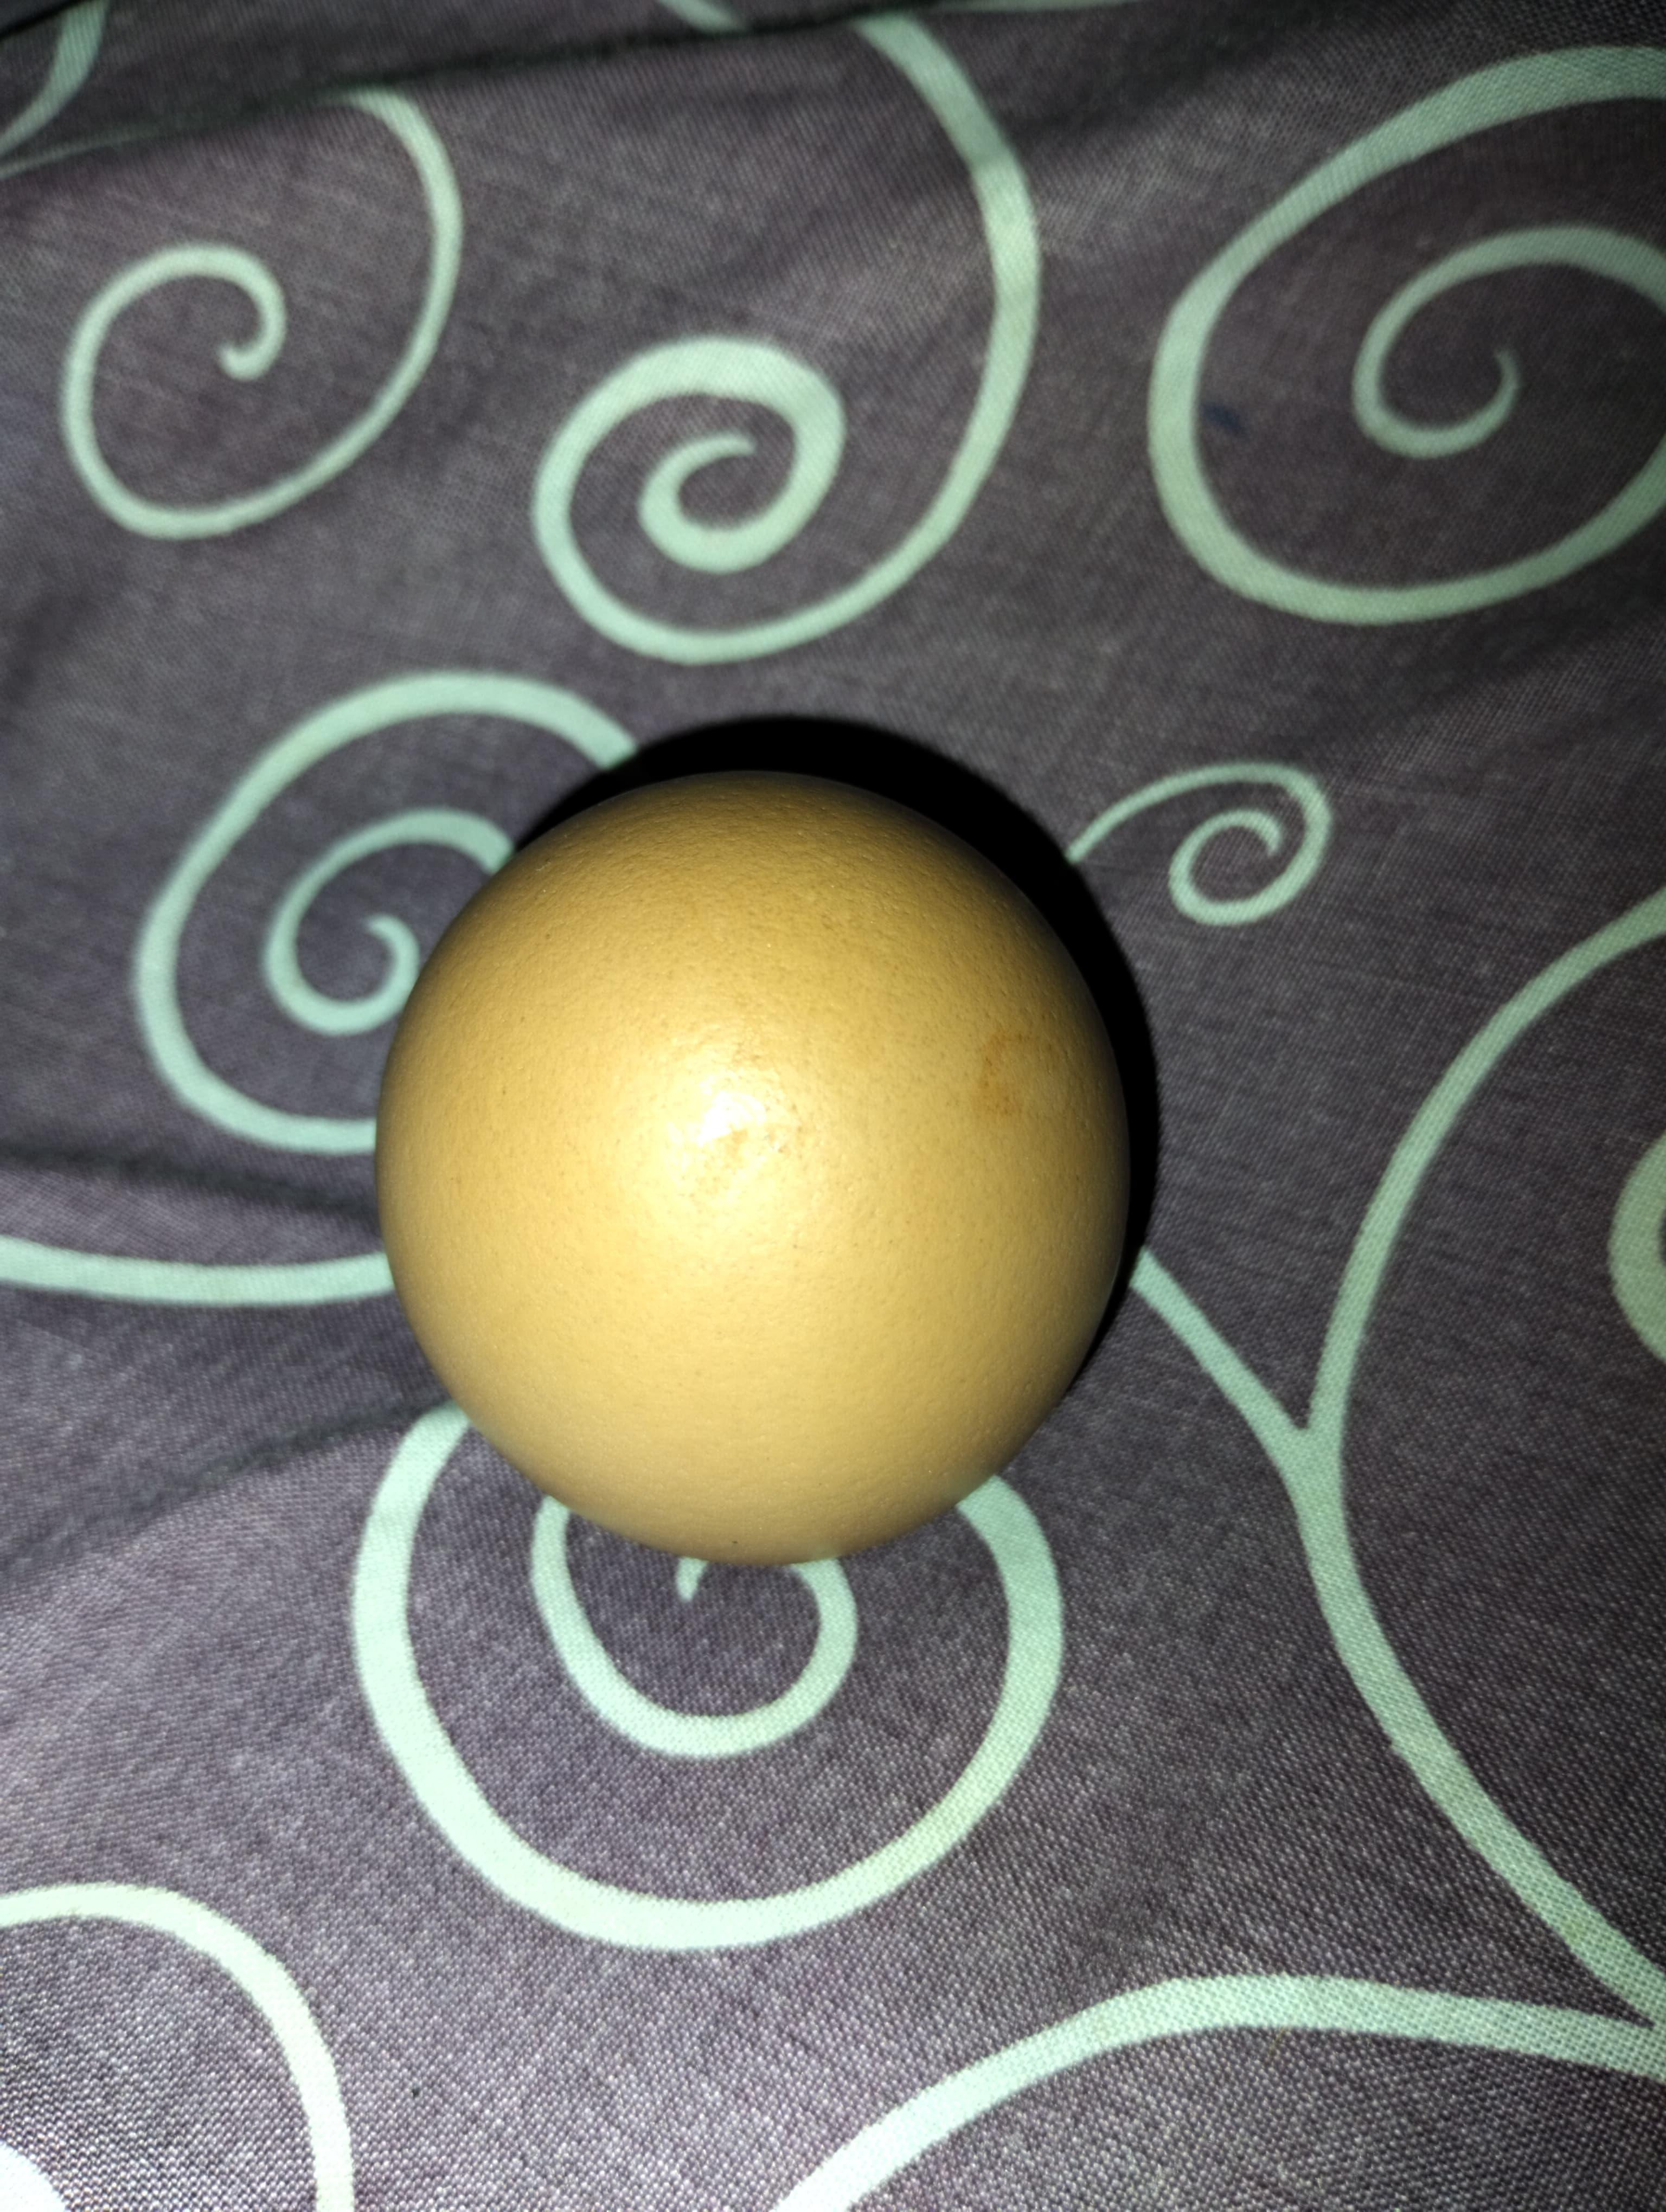curah: (376, 773, 1129, 1563)
